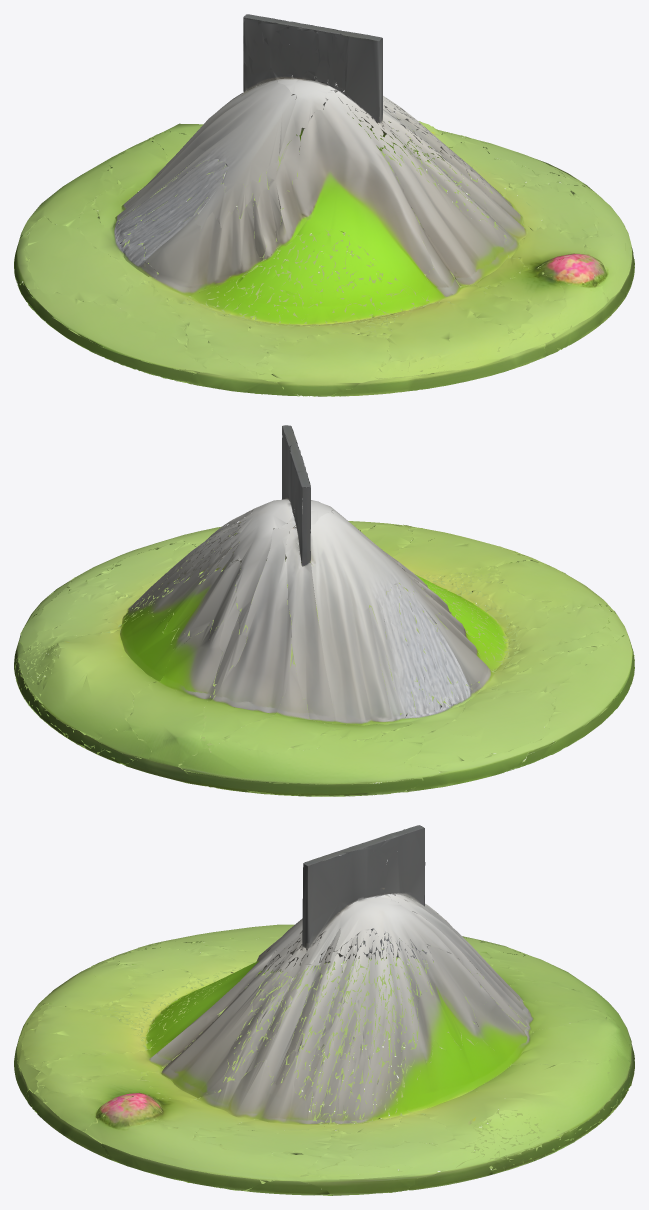
Rendered from hunyuan-volcano-extinct.glb.
3 renders of one model, top to bottom at view 1: azimuth 30°, elevation 25°; view 2: azimuth 150°, elevation 25°; view 3: azimuth 270°, elevation 25°, orthographic.
Parts seen in each view (by area): view 1: node_0; view 2: node_0; view 3: node_0.
Part boxes in pixels (left/top/right/bottom): node_0: left=14, top=14, right=634, bottom=396; node_0: left=14, top=425, right=634, bottom=796; node_0: left=14, top=825, right=634, bottom=1195.
Bounding box in the file's own units: 1.11 × 0.4423 × 1.11.
Materials: 1 (1 with a texture image).
